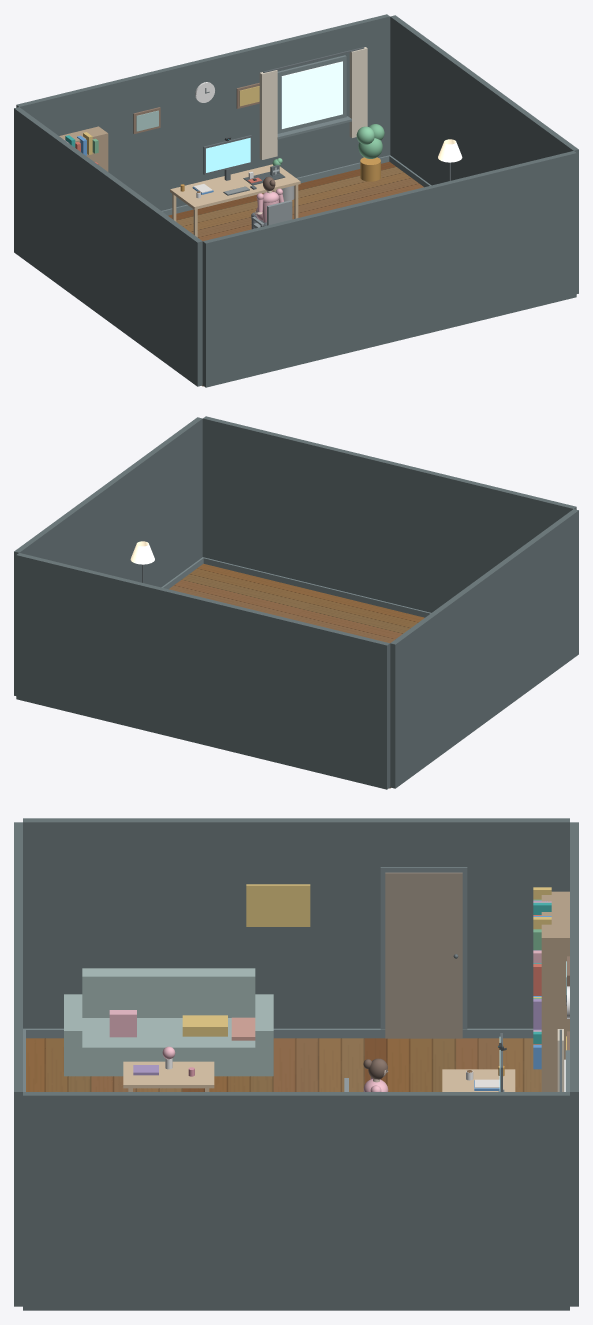
Rendered from maternalai-3b-model.glb.
3 views of the same model, one above another, from view 1: azimuth 30°, elevation 25°; view 2: azimuth 150°, elevation 25°; view 3: azimuth 270°, elevation 25° (orthographic). The views are drawn at different scales.
Bounding box in the file's own units: 7.2 × 2.62 × 6.2.
103 materials, 1 textured.
